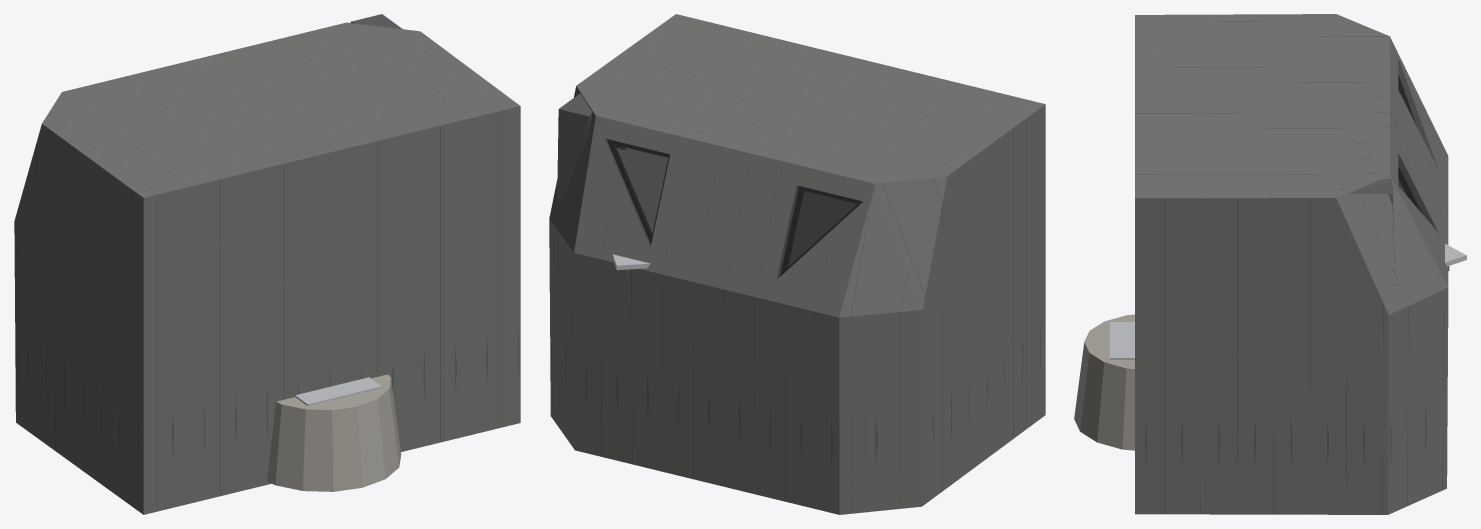
The model's file is lm-interior.glb.
3 views of the same model, side by side, from view 1: azimuth 30°, elevation 25°; view 2: azimuth 150°, elevation 25°; view 3: azimuth 270°, elevation 25° (orthographic).
Parts seen in each view (by area): view 1: cabin-shell, ascent-engine-cover; view 2: cabin-shell, window-glass, panel-16, window-frames; view 3: cabin-shell, ascent-engine-cover, window-glass, panel-16.
Boxes of the visible parts, left/top/right/bottom form: cabin-shell: left=14, top=22, right=520, bottom=514; ascent-engine-cover: left=267, top=374, right=401, bottom=491; cabin-shell: left=549, top=14, right=1045, bottom=514; window-glass: left=604, top=138, right=862, bottom=278; panel-16: left=557, top=93, right=625, bottom=201; window-frames: left=606, top=139, right=862, bottom=276; cabin-shell: left=1135, top=14, right=1448, bottom=514; ascent-engine-cover: left=1074, top=314, right=1134, bottom=450; window-glass: left=1398, top=61, right=1434, bottom=227; panel-16: left=1349, top=178, right=1395, bottom=285.
Size of the model in its own units: 2.57 by 2.09 by 2.31.
8 materials, 2 textured.
